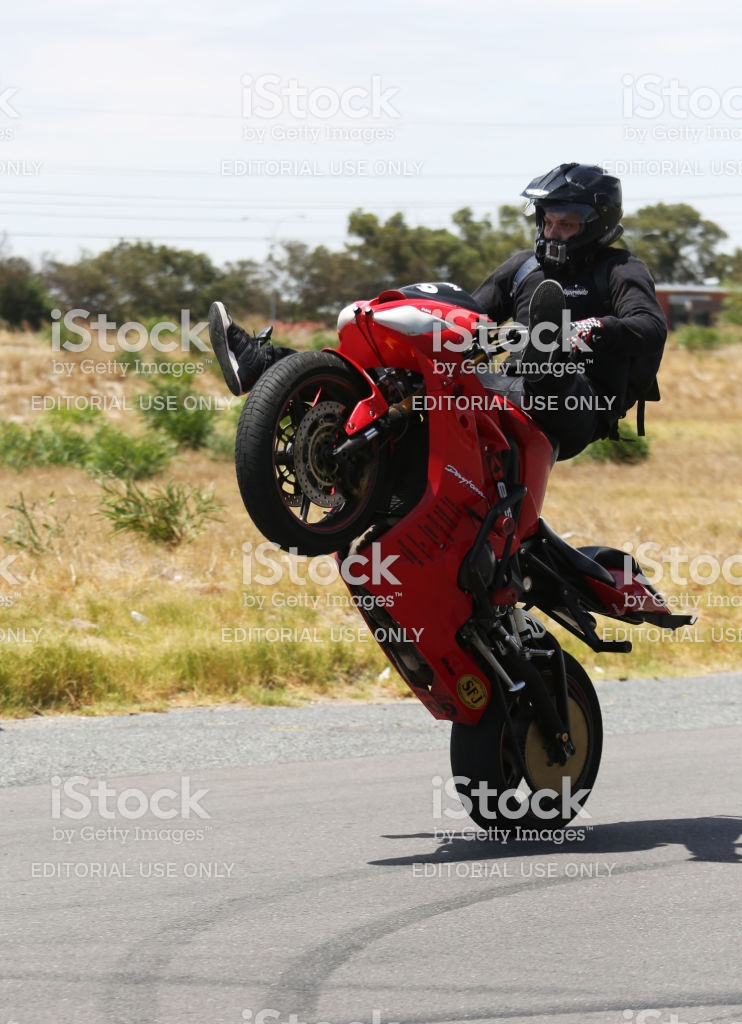helmet: (518, 146, 631, 273)
